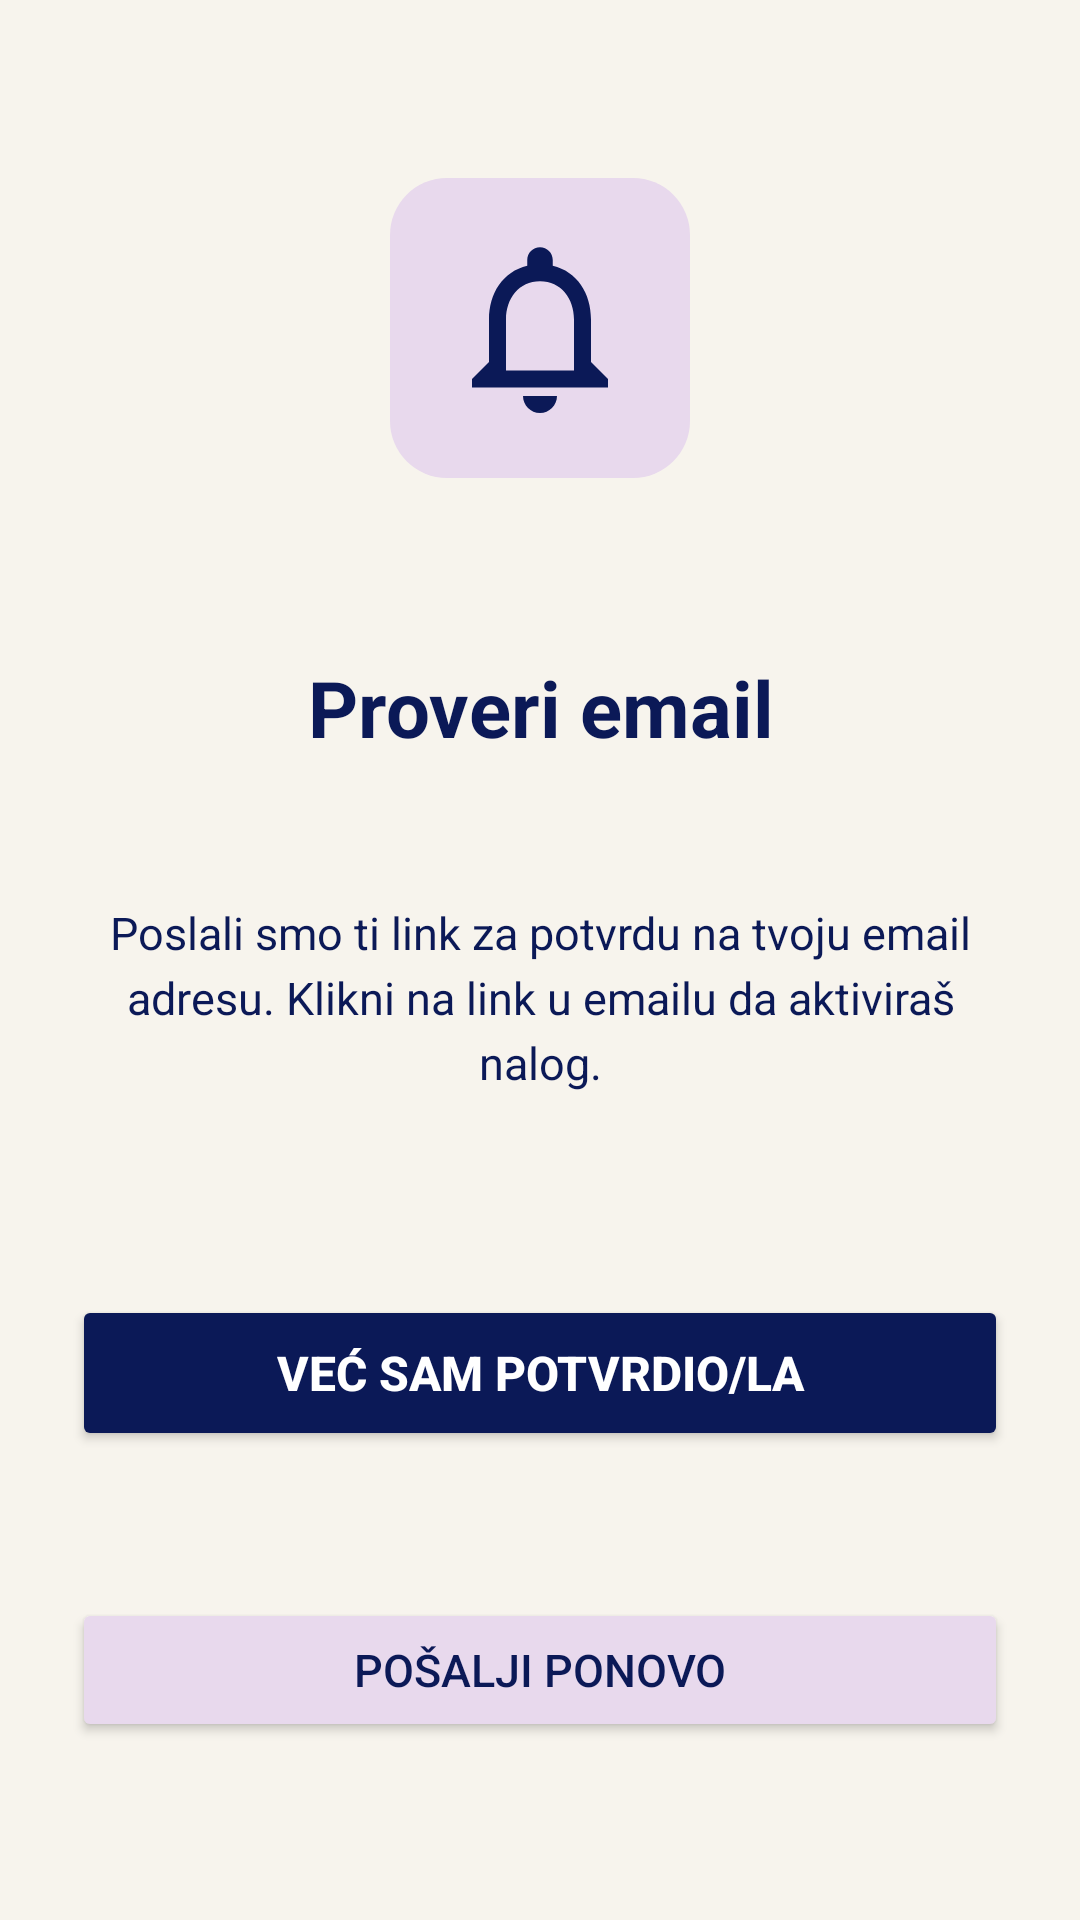

Where to tap for icons on this 1080 x 1920 app screen, as (x=x, y=y):
notifications: (x=540, y=328)
